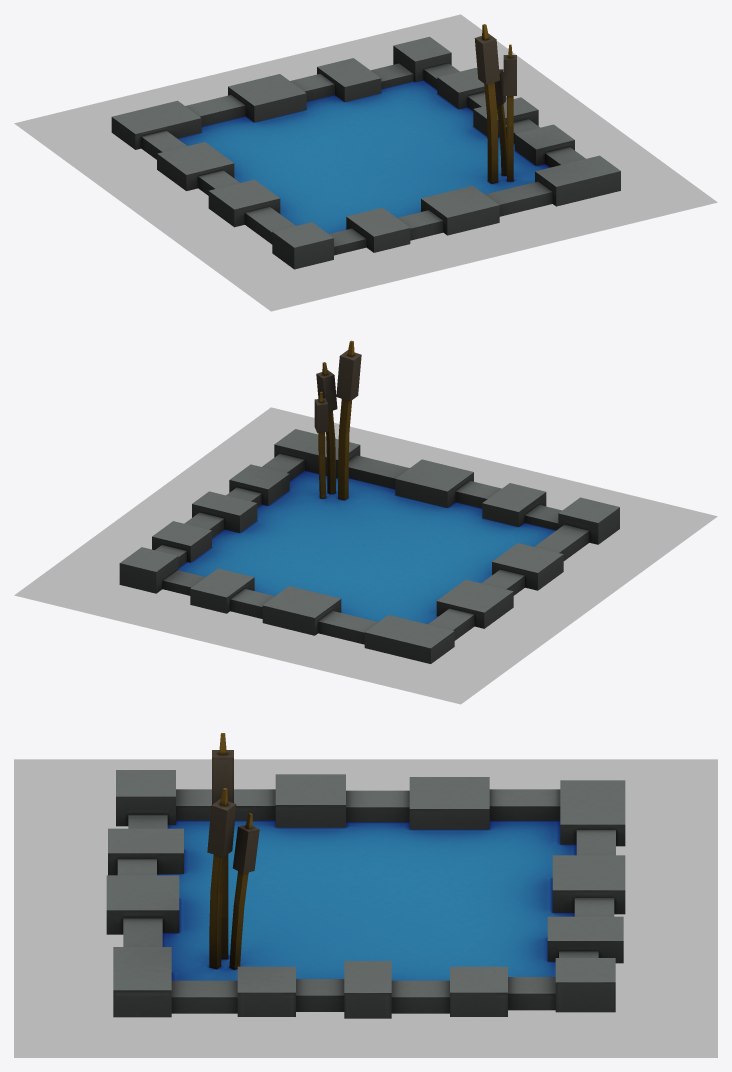
File: 4x4_pond.FBX
3 renders of one model, top to bottom at view 1: azimuth 30°, elevation 25°; view 2: azimuth 150°, elevation 25°; view 3: azimuth 270°, elevation 25°, orthographic. The views are drawn at different scales.
Parts seen in each view (by area): view 1: 4x4_pond, 4x4_pond_soft_shadow; view 2: 4x4_pond, 4x4_pond_soft_shadow; view 3: 4x4_pond, 4x4_pond_soft_shadow.
Part boxes in pixels (x1,y1,x2,y2): 4x4_pond: [111, 24, 620, 269]; 4x4_pond_soft_shadow: [14, 14, 717, 311]; 4x4_pond: [119, 340, 619, 663]; 4x4_pond_soft_shadow: [14, 407, 717, 704]; 4x4_pond: [106, 733, 625, 1018]; 4x4_pond_soft_shadow: [14, 759, 717, 1057].
Bounding box in the file's own units: 5305 × 1880 × 5285.
